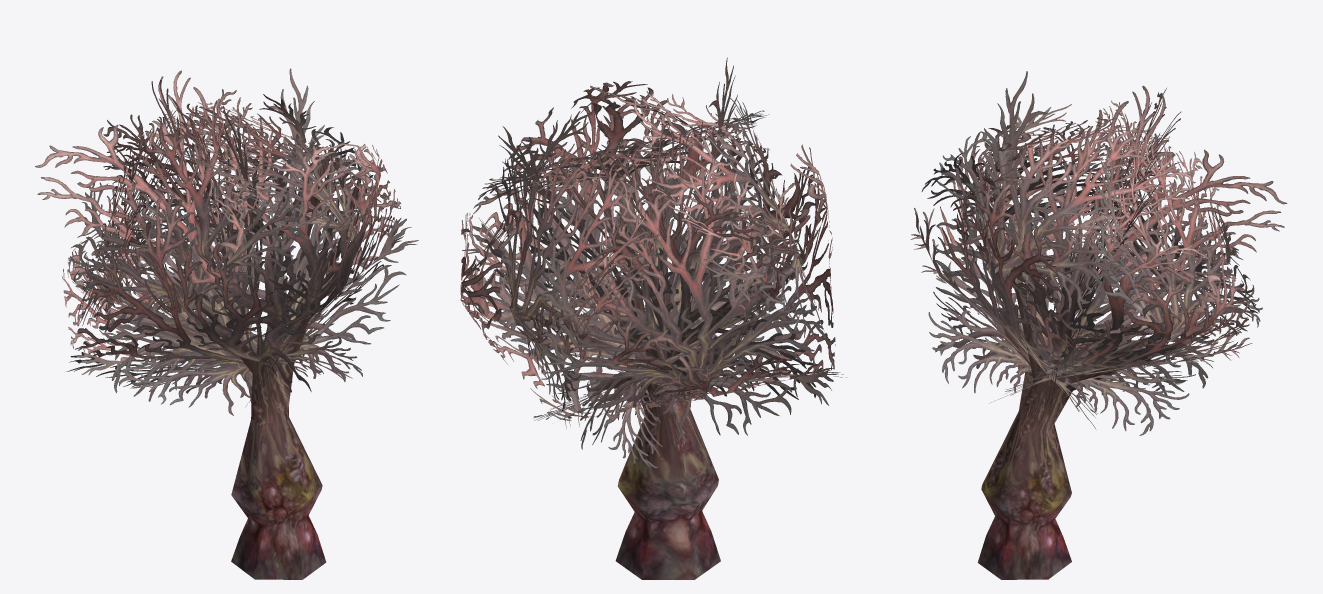
Rendered from dragonblight_treeinfected04.obj.
3 views of the same model, side by side, from view 1: azimuth 30°, elevation 25°; view 2: azimuth 150°, elevation 25°; view 3: azimuth 270°, elevation 25° (orthographic). The views are drawn at different scales.
Visible parts, largest first — view 1: Geoset1, Geoset0; view 2: Geoset1, Geoset0; view 3: Geoset1, Geoset0.
Boxes of the visible parts, x1,y1,x2,y2 form: Geoset1: (35,68,418,415); Geoset0: (174,235,338,579); Geoset1: (460,57,846,468); Geoset0: (545,189,769,579); Geoset1: (910,71,1287,435); Geoset0: (967,276,1156,579).
Size of the model in its own units: 42.18 by 59.52 by 43.91.
2 materials, 2 textured.
